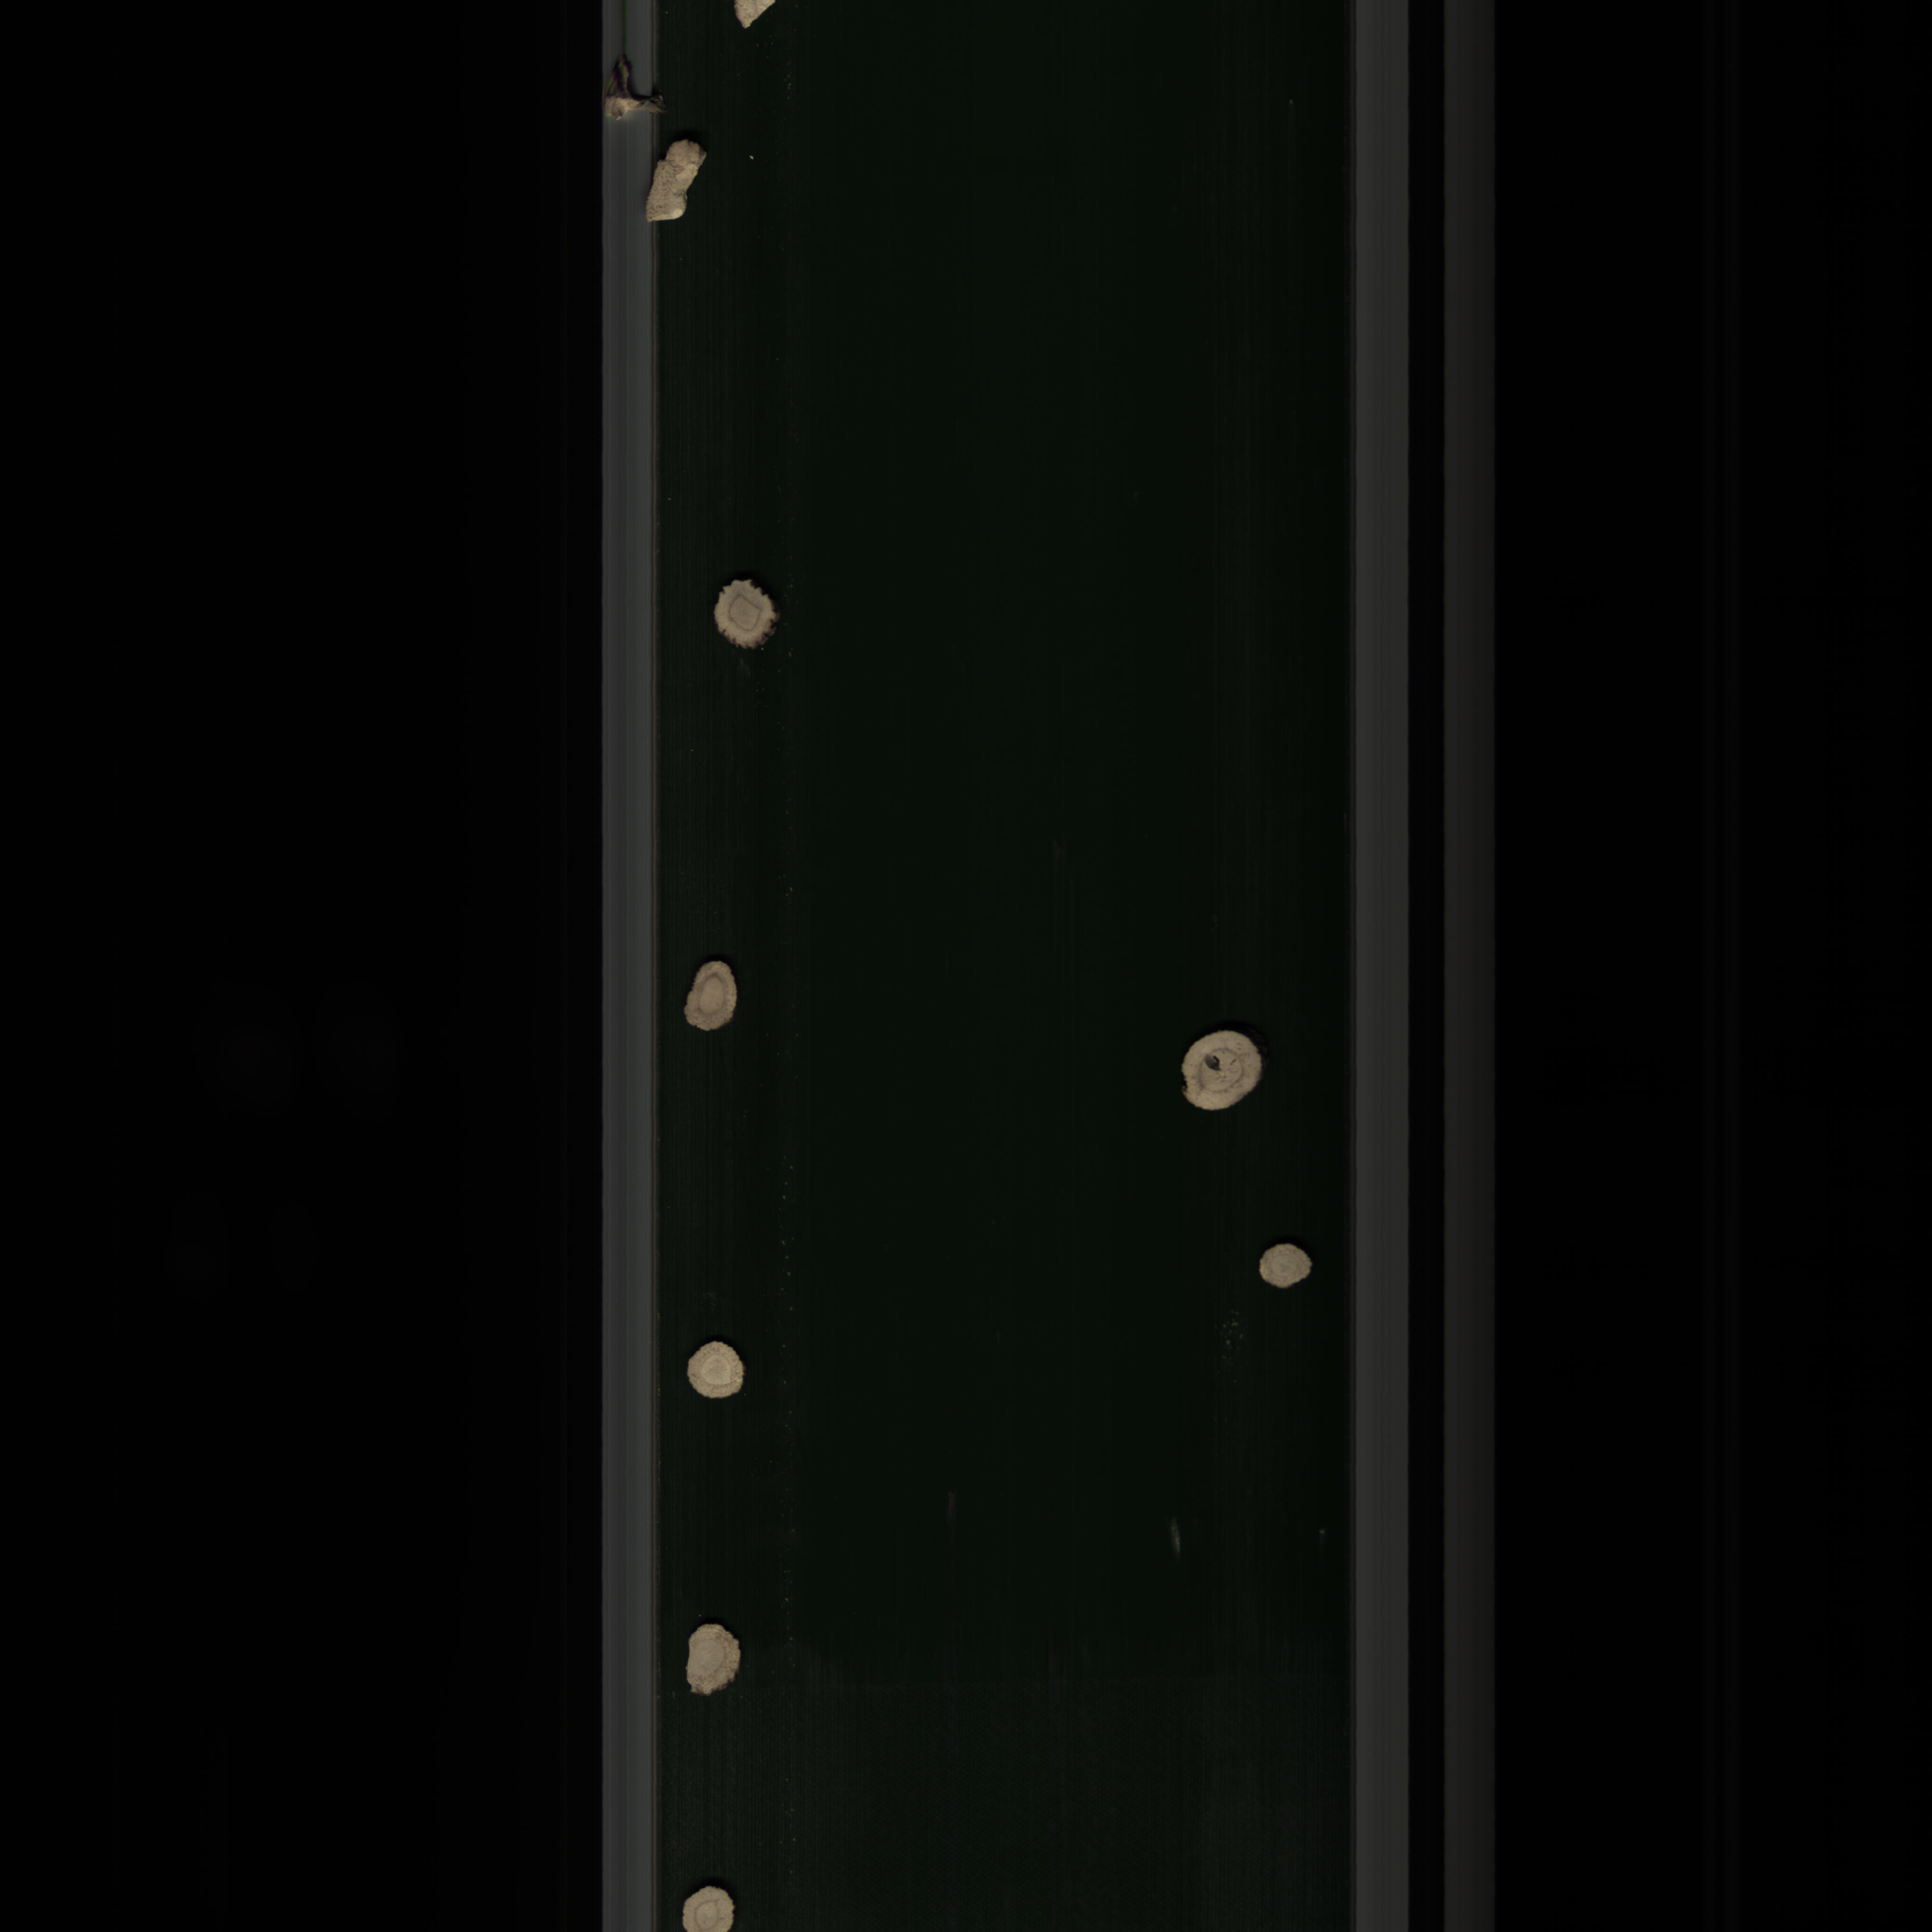debris: (648, 131, 704, 246)
hole: (1175, 1021, 1270, 1127)
